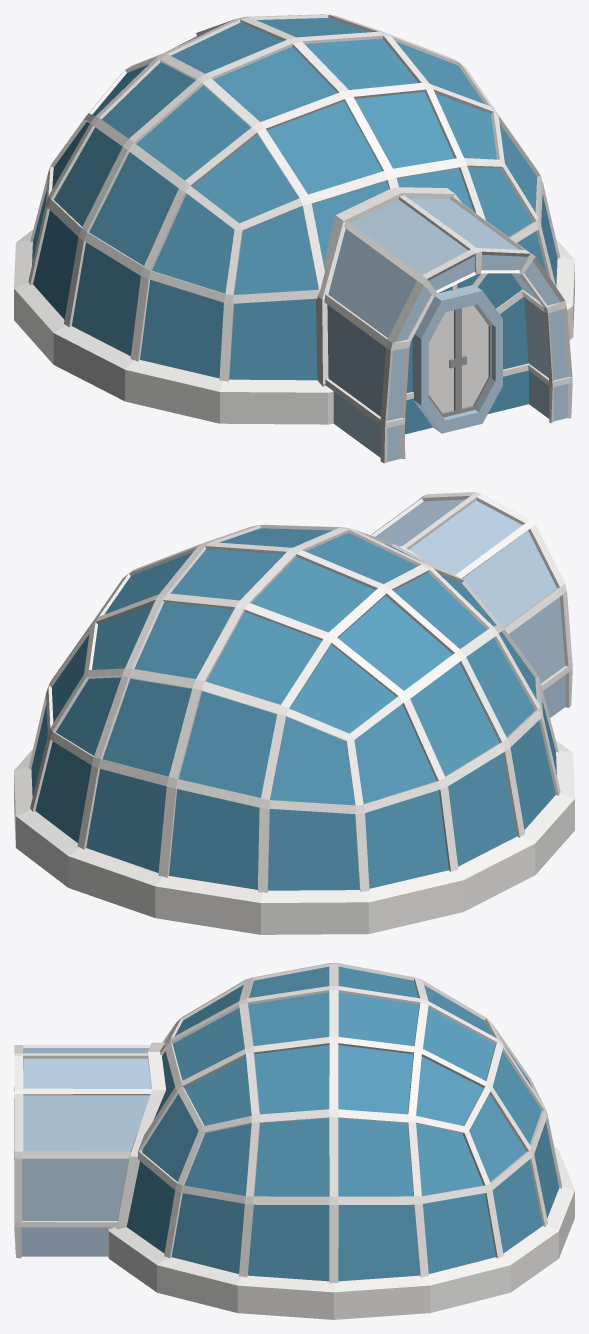
Rendered from Isl_19_Moonstation.fbx.
The picture shows the model from 3 angles, top to bottom: view 1: azimuth 30°, elevation 25°; view 2: azimuth 150°, elevation 25°; view 3: azimuth 270°, elevation 25°; orthographic projection. The views are drawn at different scales.
Parts seen in each view (by area): view 1: Isl_19_Moonstation; view 2: Isl_19_Moonstation; view 3: Isl_19_Moonstation.
Part boxes in pixels (x1,y1,x2,y2): Isl_19_Moonstation: [14, 14, 574, 463]; Isl_19_Moonstation: [14, 492, 574, 934]; Isl_19_Moonstation: [14, 963, 574, 1319].
Size of the model in its own units: 990 by 1152 by 522.
1 material, 1 textured.
